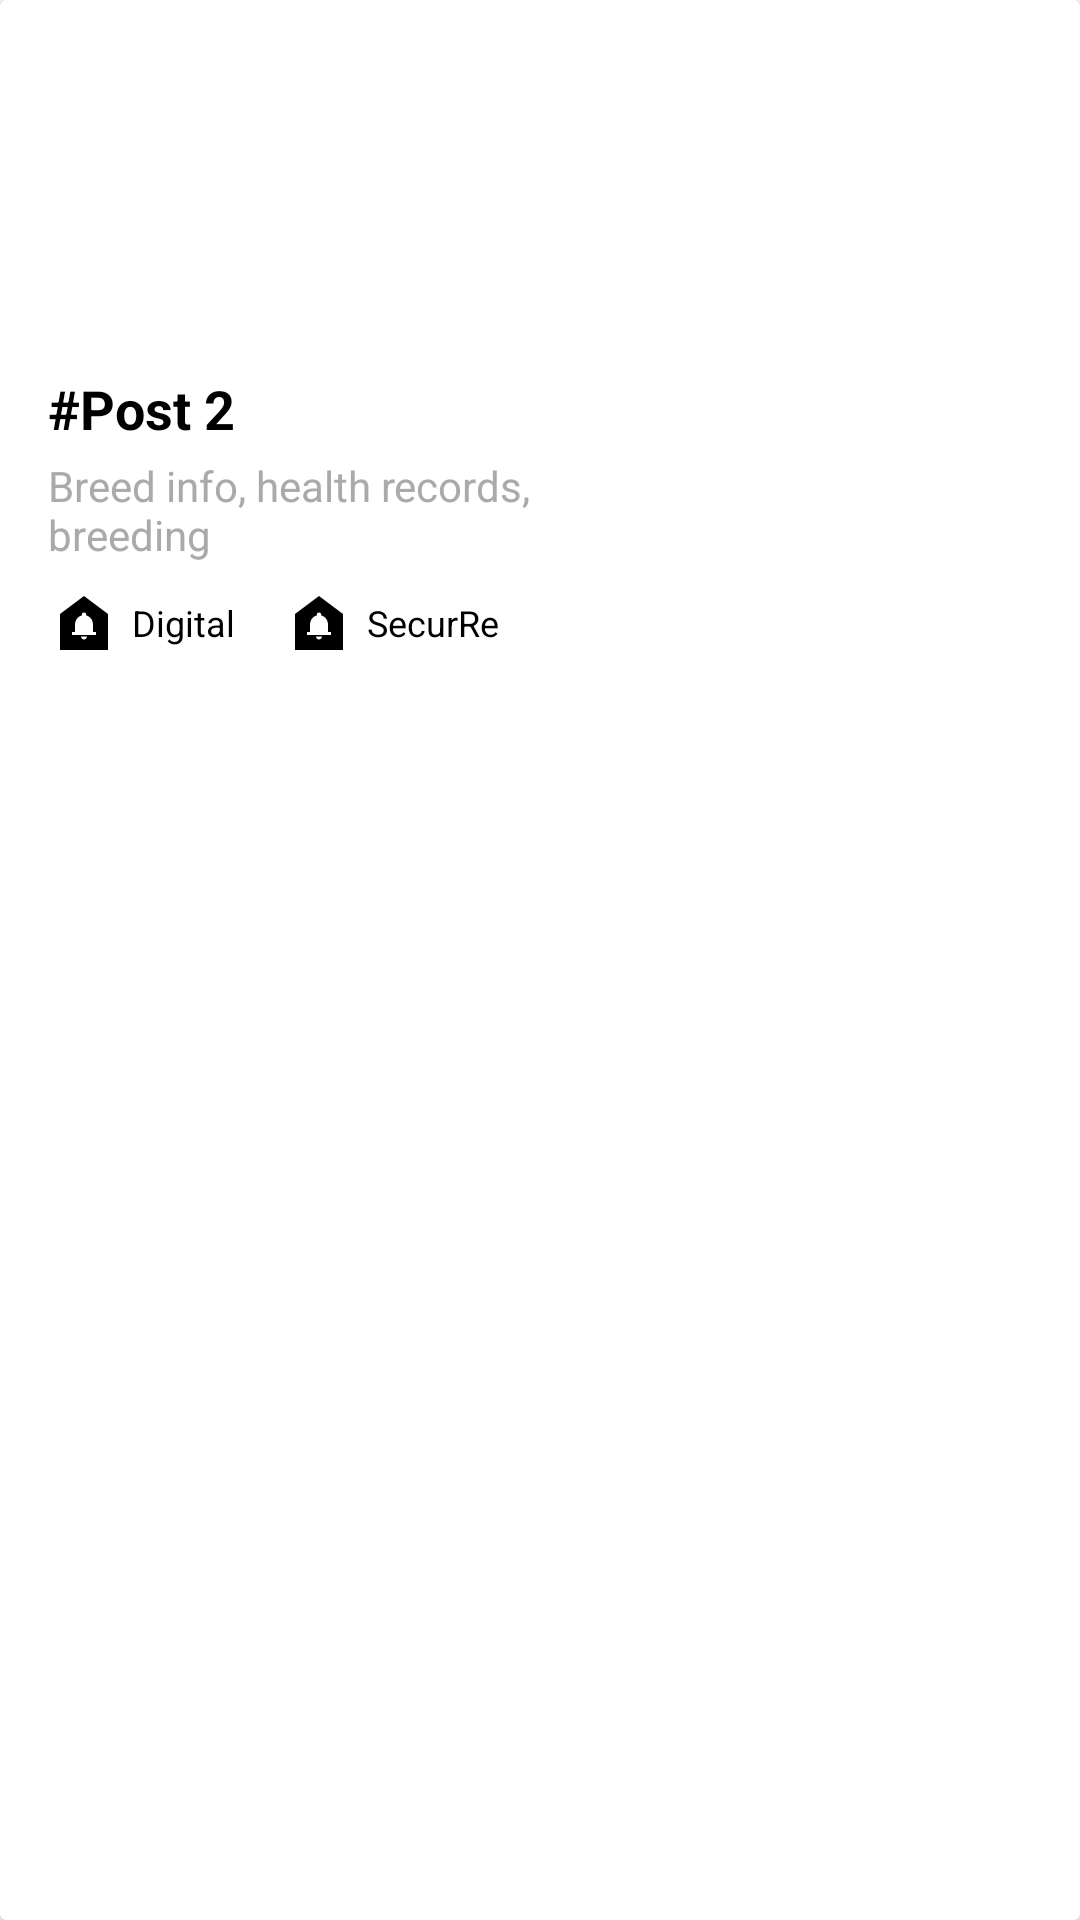

Screen size 1080px x 1920px. Icon name, then its box in pixels as (x1, y1, x2, y2):
bell: (60, 596, 108, 650), (295, 596, 343, 650)
